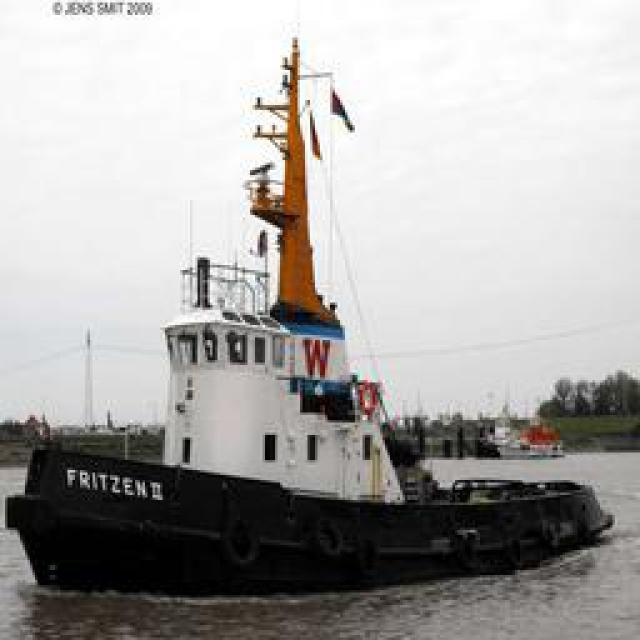Ship: (5, 36, 625, 586)
